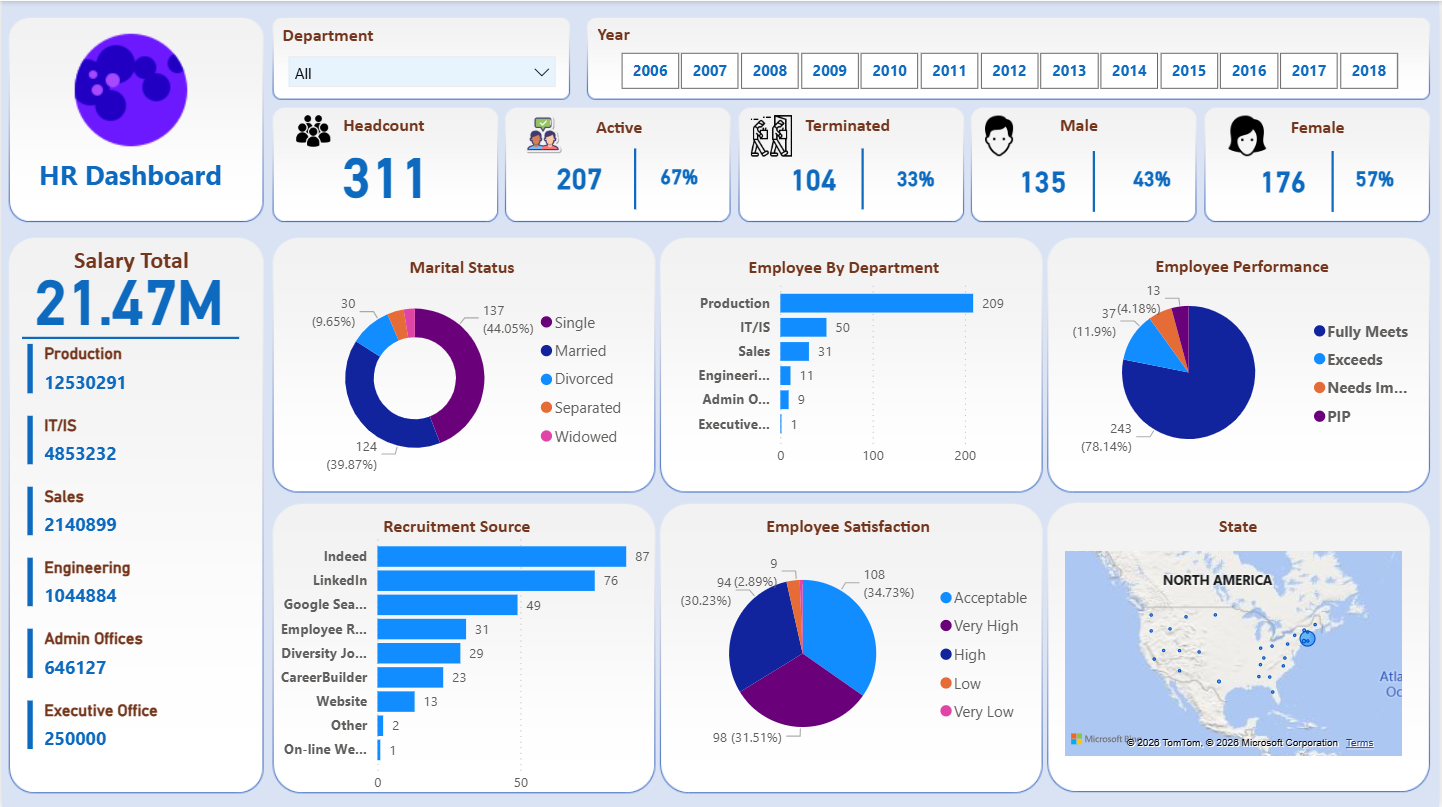

This screenshot's page, from the dashboard's own definition file:
{"tool":"powerbi","page":{"name":"Page 1","canvas":[1280,720],"ordinal":0},"visuals":[{"type":"image","box":[49.8,14.2,129.9,129.9],"z":0},{"type":"textbox","box":[16.9,133.9,195.4,50.7],"z":1000},{"type":"slicer","fields":{"Values":["HRData.Department"]},"box":[245.3,39,258.3,43.3],"z":2000},{"type":"slicer","fields":{"Values":["HRData.Hiring Year"]},"box":[525.2,39,741.6,46.2],"z":3000},{"type":"textbox","box":[17.3,212.2,194.9,42.4],"z":4000},{"type":"textbox","box":[525.2,14.4,60.6,34.6],"z":5000},{"type":"textbox","box":[245.3,95.2,190.4,33.2],"z":6000},{"type":"textbox","box":[662.2,95.2,181.8,33.2],"z":7000},{"type":"textbox","box":[458.8,98.1,181.8,33.2],"z":8000},{"type":"textbox","box":[864.2,95.2,190.4,33.2],"z":9000},{"type":"textbox","box":[1076.3,98.1,190.4,33.2],"z":10000},{"type":"image","box":[251,95.2,50.5,40.4],"z":11000},{"type":"image","box":[448.7,95.2,66.4,46.2],"z":12000},{"type":"image","box":[650.7,95.2,67.8,49.1],"z":13000},{"type":"image","box":[862.8,95.2,50.5,49.1],"z":14000},{"type":"image","box":[1076.3,95.2,64.9,49.1],"z":15000},{"type":"card","fields":{"Values":["All measures.Headcount"]},"box":[277,119.7,129.8,63.5],"z":16000},{"type":"card","fields":{"Values":["All measures.Active"]},"box":[473.2,131.3,82.2,53.4],"z":17000},{"type":"card","fields":{"Values":["All measures.Terminated"]},"box":[692.5,138.5,60.6,41.8],"z":18000},{"type":"card","fields":{"Values":["All measures.Male"]},"box":[896,135.6,62,49.1],"z":19000},{"type":"card","fields":{"Values":["All measures.Female"]},"box":[1109.5,135.6,62,49.1],"z":20000},{"type":"card","fields":{"Values":["Sum(HRData.Salary)"]},"box":[15.7,223.2,194.9,75.5],"z":21000},{"type":"textbox","box":[245.3,15.9,112.5,33.2],"z":22000},{"type":"textbox","box":[253.9,222.2,311.6,33.2],"z":23000},{"type":"donutChart","fields":{"Category":["HRData.MaritalStatus"],"Y":["All measures.Headcount"]},"box":[251,243.8,314.5,184.7],"z":24000},{"type":"textbox","box":[603.1,222.2,292.9,33.2],"z":25000},{"type":"barChart","fields":{"Category":["HRData.Department"],"Y":["All measures.Headcount"]},"box":[603.7,239,309.7,183.9],"z":26000},{"type":"textbox","box":[957.4,221.7,294,33],"z":27000},{"type":"pieChart","fields":{"Category":["HRData.PerformanceScore"],"Y":["All measures.Headcount"]},"box":[941.7,243.7,325.4,174.5],"z":28000},{"type":"textbox","box":[254.7,452.8,300.3,33],"z":29000},{"type":"textbox","box":[603.7,452.8,300.3,33],"z":30000},{"type":"textbox","box":[951.1,452.8,300.3,33],"z":31000},{"type":"map","fields":{"Category":["HRData.State"],"Size":["All measures.Headcount"]},"box":[941.7,485.8,309.7,191.8],"z":32000},{"type":"pieChart","fields":{"Category":["HRData.SatisfactionStatus"],"Y":["All measures.Headcount"]},"box":[586.4,485.8,341.1,191.8],"z":33000},{"type":"card","fields":{"Values":["All measures.ActivePer"]},"box":[572.7,131.6,61.9,51.1],"z":34000},{"type":"shape","box":[532.4,131.6,63.5,54.2],"z":35000},{"type":"shape","box":[735.2,131.6,63.5,54.2],"z":36000},{"type":"shape","box":[941,133.1,63.5,54.2],"z":37000},{"type":"shape","box":[1153.1,133.1,63.5,54.2],"z":38000},{"type":"card","fields":{"Values":["All measures.TerminatedPer"]},"box":[783.2,137.8,60.4,41.8],"z":39000},{"type":"card","fields":{"Values":["All measures.MalePer"]},"box":[993.7,137.8,60.4,41.8],"z":40000},{"type":"card","fields":{"Values":["All measures.FemalePer"]},"box":[1191.8,137.8,60.4,41.8],"z":41000},{"type":"clusteredBarChart","fields":{"Category":["HRData.RecruitmentSource"],"Y":["All measures.Headcount"]},"box":[231.1,463.8,358.4,250],"z":41001},{"type":"shape","box":[17.3,283,193.4,34.6],"z":41002},{"type":"multiRowCard","fields":{"Values":["Sum(HRData.Salary)","HRData.Department"]},"box":[17.3,300.3,194.9,397.7],"z":41003}]}

Visuals, with their boxes in screenshot pixels (x1, y1, x2, y2), scaled from the page's 1280x720 canvas onto the 1442x807 screenshot:
image: 56:16:202:162
textbox: 19:150:239:207
slicer - HRData.Department: 276:44:567:92
slicer - HRData.Hiring Year: 592:44:1427:95
textbox: 19:238:239:285
textbox: 592:16:660:55
textbox: 276:107:491:144
textbox: 746:107:951:144
textbox: 517:110:722:147
textbox: 974:107:1188:144
textbox: 1213:110:1427:147
image: 283:107:340:152
image: 505:107:580:158
image: 733:107:809:162
image: 972:107:1029:162
image: 1213:107:1286:162
card - All measures.Headcount: 312:134:458:205
card - All measures.Active: 533:147:626:207
card - All measures.Terminated: 780:155:848:202
card - All measures.Male: 1009:152:1079:207
card - All measures.Female: 1250:152:1320:207
card - Sum(HRData.Salary): 18:250:237:335
textbox: 276:18:403:55
textbox: 286:249:637:286
donutChart - HRData.MaritalStatus x All measures.Headcount: 283:273:637:480
textbox: 679:249:1009:286
barChart - HRData.Department x All measures.Headcount: 680:268:1029:474
textbox: 1079:248:1410:285
pieChart - HRData.PerformanceScore x All measures.Headcount: 1061:273:1427:469
textbox: 287:508:625:545
textbox: 680:508:1018:545
textbox: 1071:508:1410:545
map - HRData.State x All measures.Headcount: 1061:545:1410:759
pieChart - HRData.SatisfactionStatus x All measures.Headcount: 661:545:1045:759
card - All measures.ActivePer: 645:148:715:205
shape: 600:148:671:208
shape: 828:148:900:208
shape: 1060:149:1132:210
shape: 1299:149:1371:210
card - All measures.TerminatedPer: 882:154:950:201
card - All measures.MalePer: 1119:154:1188:201
card - All measures.FemalePer: 1343:154:1411:201
clusteredBarChart - HRData.RecruitmentSource x All measures.Headcount: 260:520:664:800
shape: 19:317:237:356
multiRowCard - Sum(HRData.Salary) x HRData.Department: 19:337:239:782
